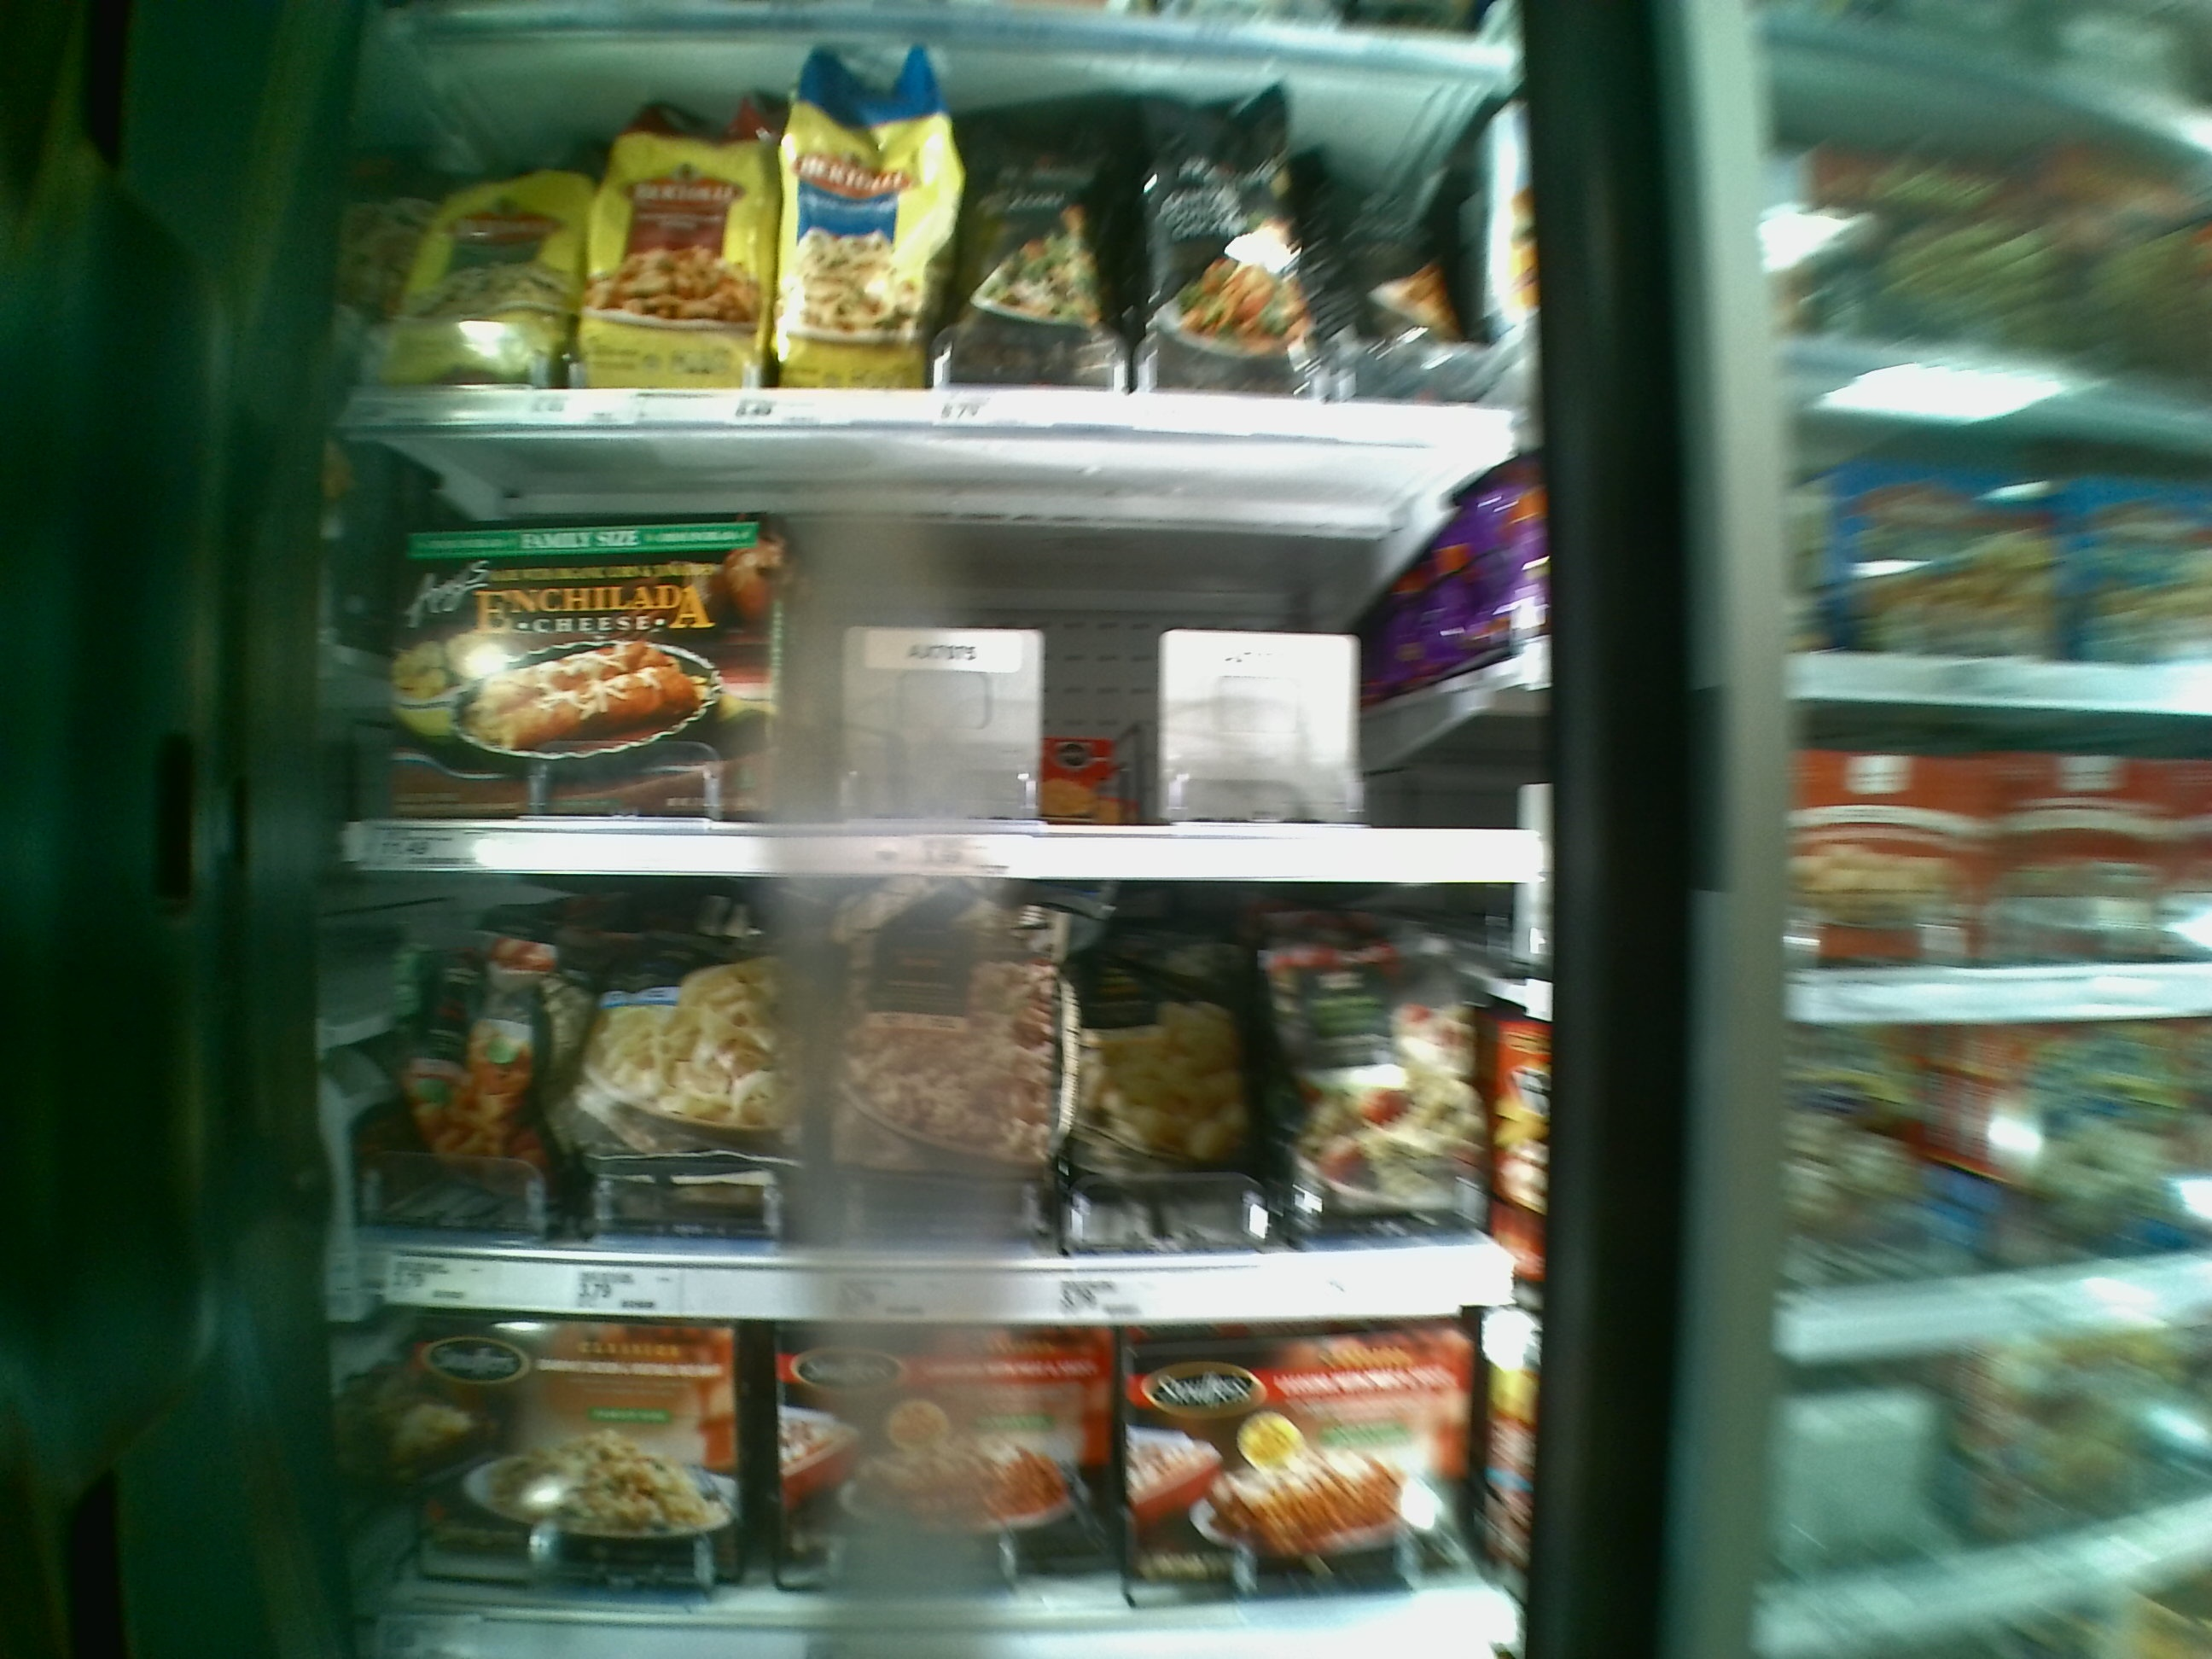shelf: (343, 877, 1533, 1323), (347, 439, 1540, 880), (366, 2, 1524, 450), (369, 1303, 1505, 1659)
